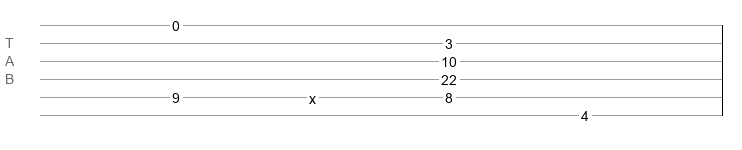0: (172, 18, 180, 28)
10: (441, 54, 457, 64)
22: (441, 72, 457, 82)
3: (445, 36, 453, 46)
4: (581, 108, 589, 118)
8: (445, 90, 453, 100)
9: (172, 90, 180, 100)
x: (309, 91, 316, 99)
